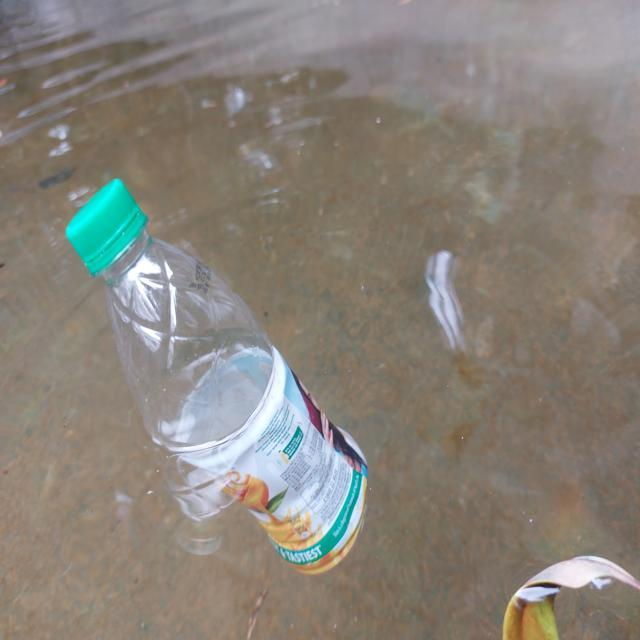leaf: (502, 545, 629, 640)
waterbottle: (63, 178, 374, 580)
